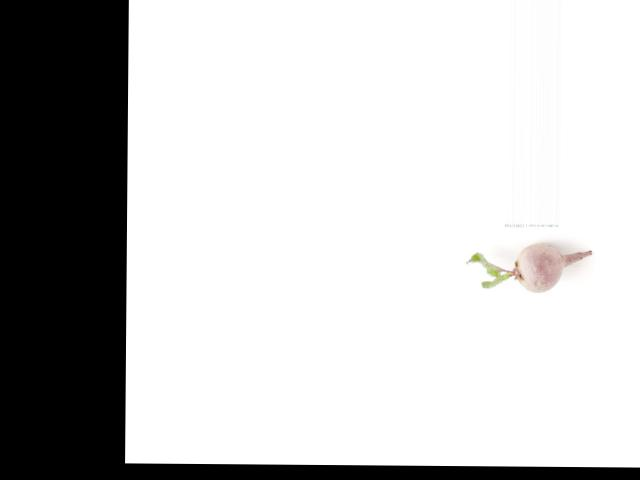beet: (465, 242, 590, 292)
